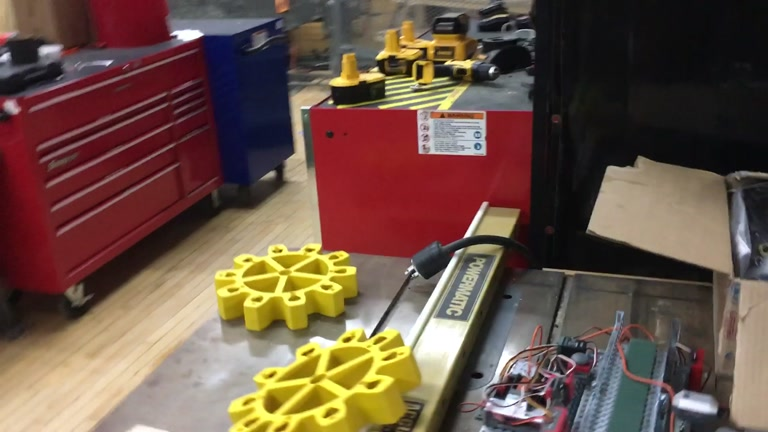gear: (227, 327, 421, 432), (212, 241, 358, 331)
